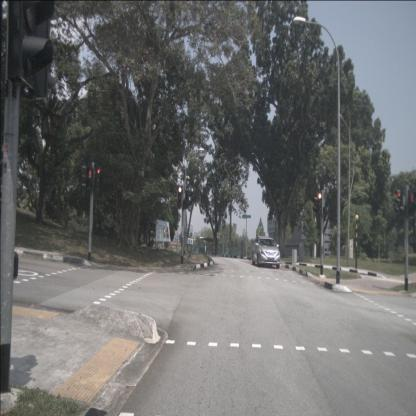vehicle-car: (251, 236, 280, 268)
